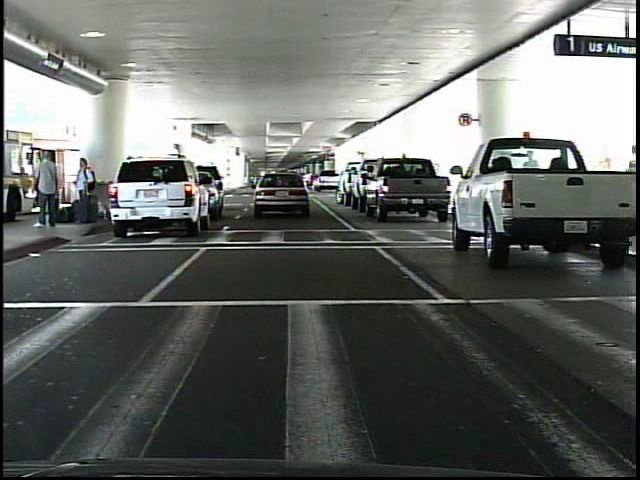person: (31, 149, 62, 229), (71, 156, 96, 226)
